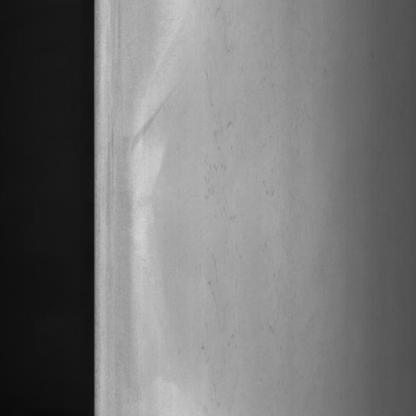silk_spot: (183, 0, 262, 408)
